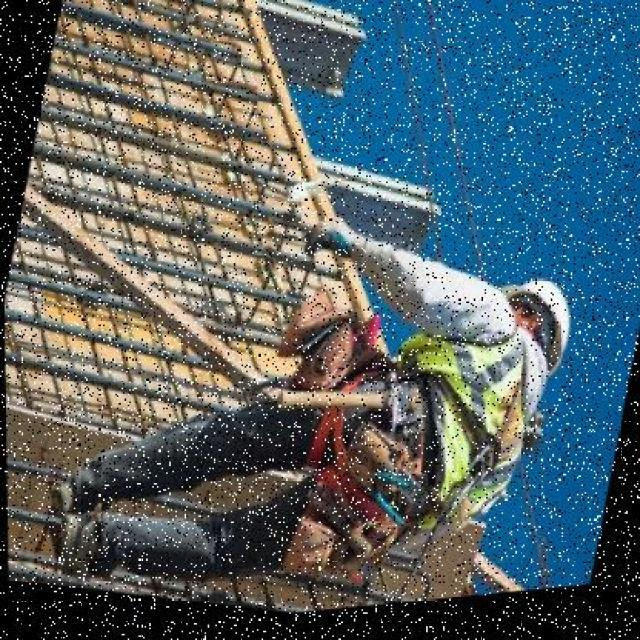vest: (377, 318, 547, 542)
